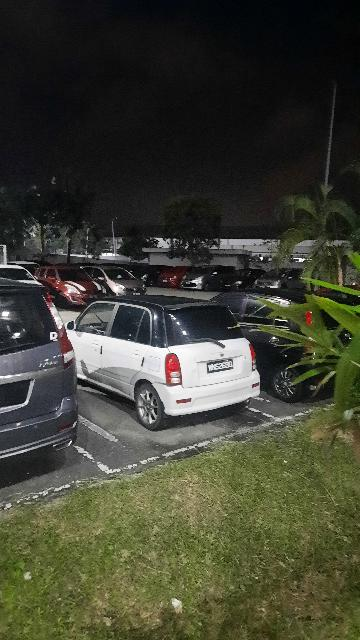License_Plate: (208, 358, 236, 375)
car: (66, 297, 265, 431), (202, 288, 360, 403), (1, 275, 79, 467)
